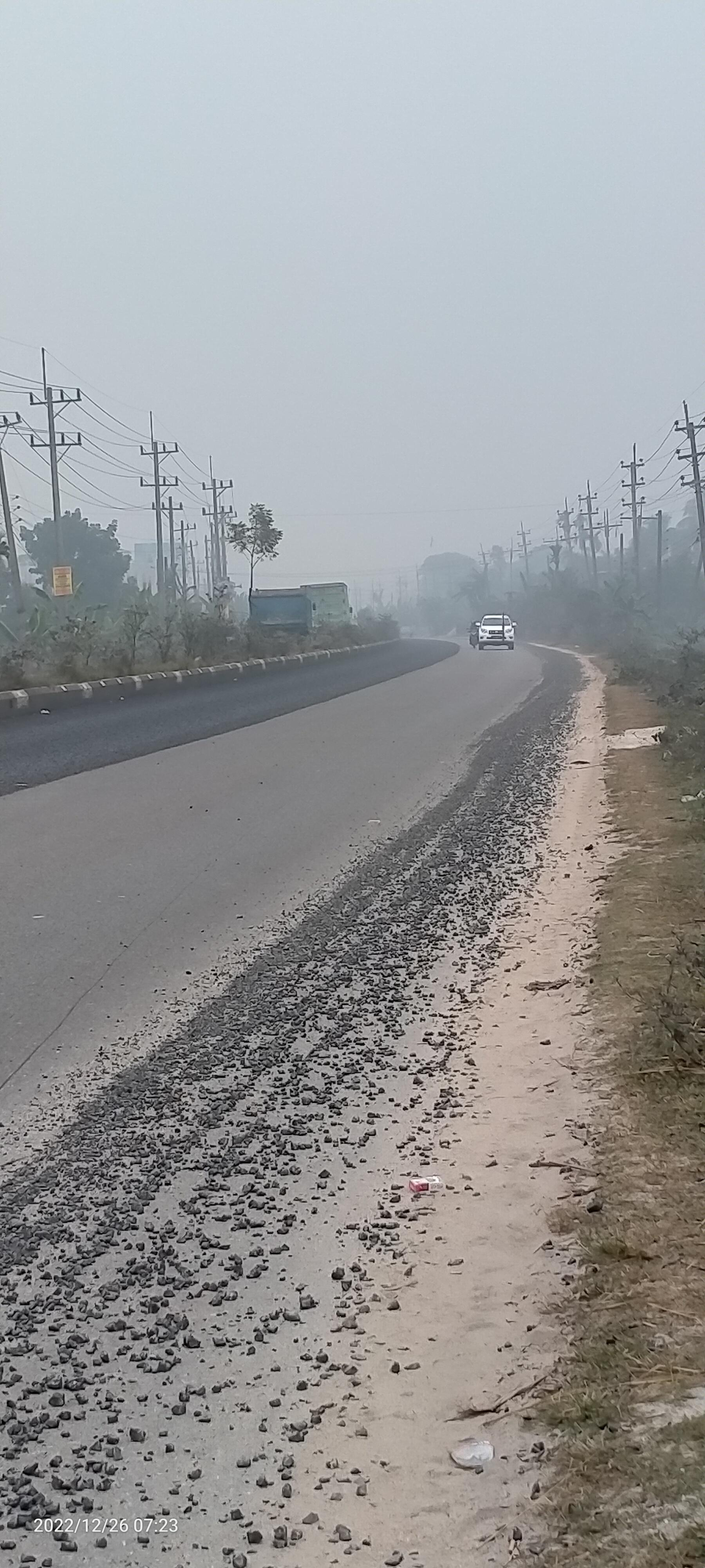Car: (472, 609, 525, 661)
Truck: (241, 566, 374, 658)
